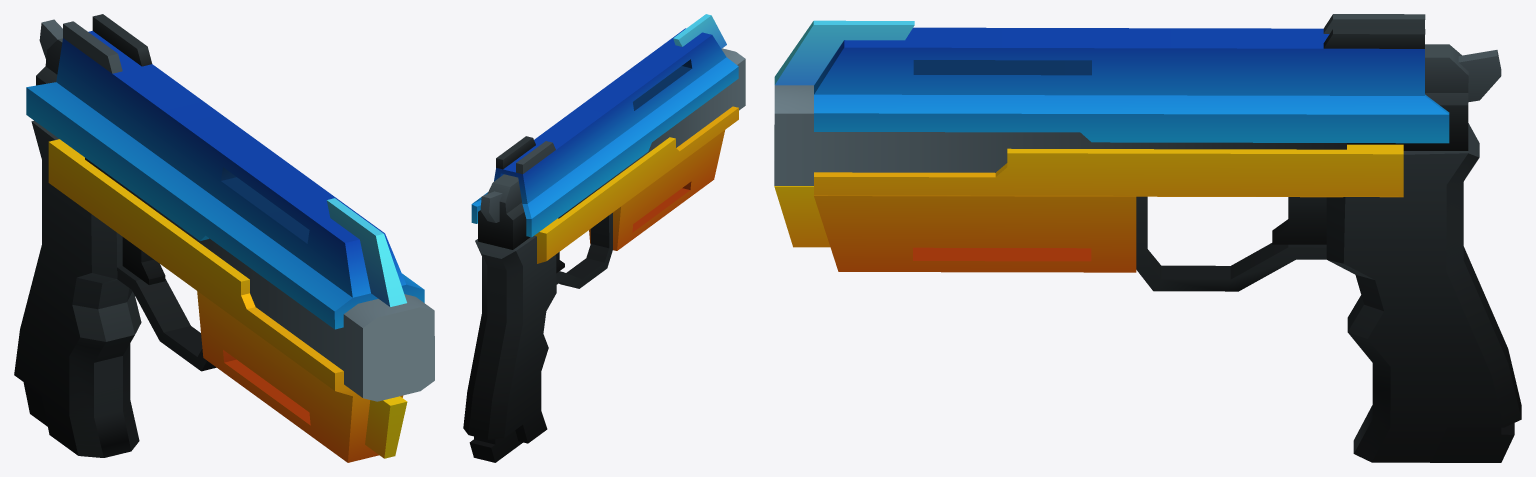
File: Level1Gun.fbx
3 views of the same model, side by side, from view 1: azimuth 30°, elevation 25°; view 2: azimuth 150°, elevation 25°; view 3: azimuth 270°, elevation 25° (orthographic). The views are drawn at different scales.
Parts seen in each view (by area): view 1: Weapons_012__2_; view 2: Weapons_012__2_; view 3: Weapons_012__2_.
Part boxes in pixels (<box>): Weapons_012__2_: <box>14,14,434,462</box>; Weapons_012__2_: <box>463,14,745,462</box>; Weapons_012__2_: <box>774,14,1521,462</box>.
Size of the model in its own units: 8.67 by 38.72 by 60.68.
1 material, 1 textured.
